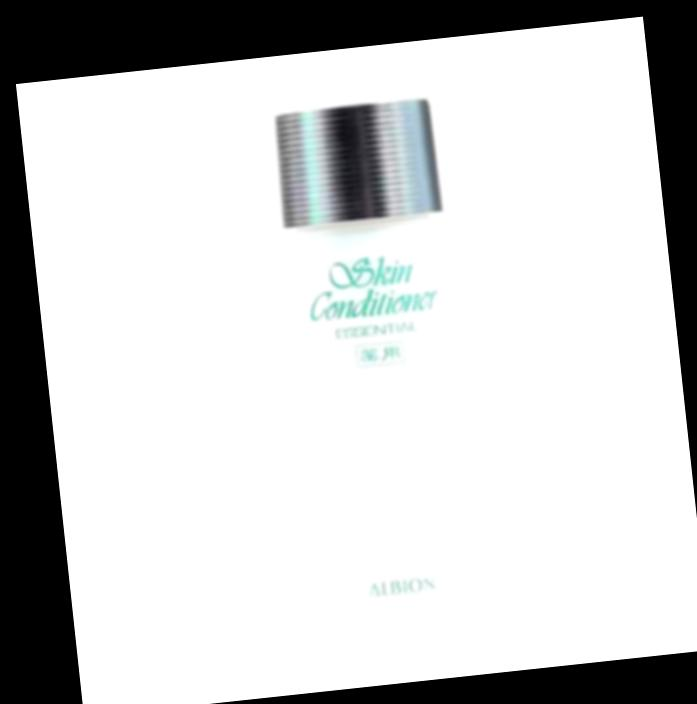cosmetic: (262, 93, 489, 645)
